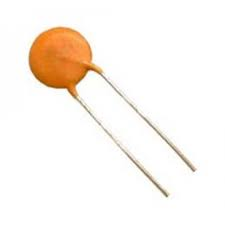ceramic capacitor: (8, 12, 136, 139)
